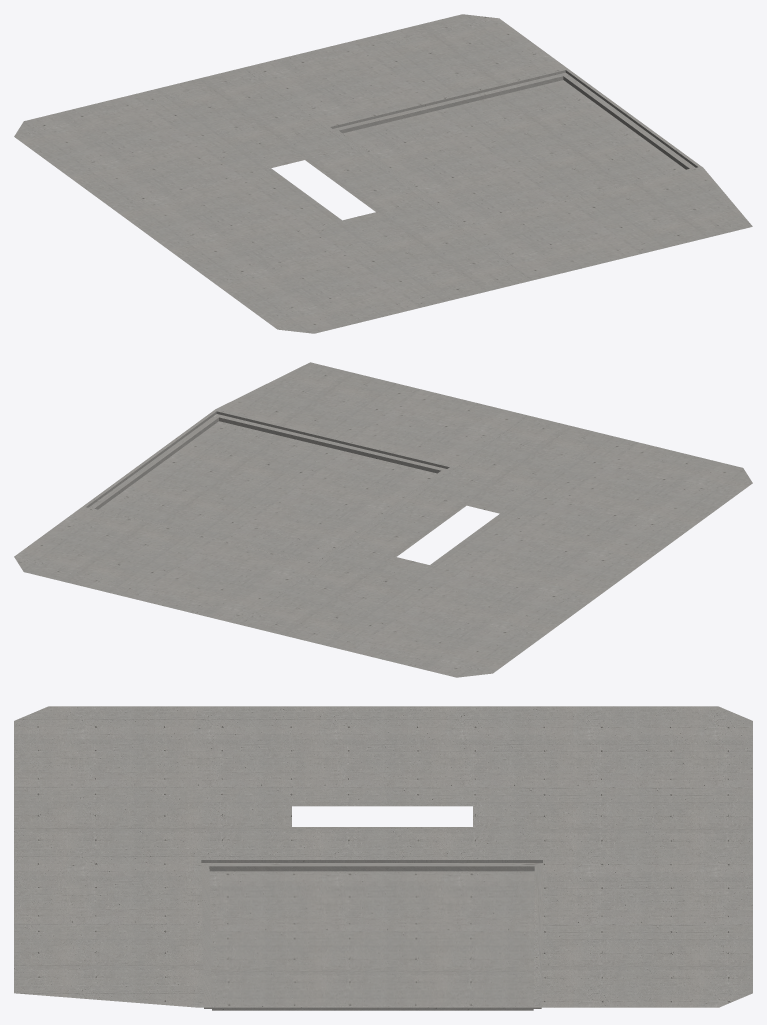
Rendered from floor.fbx.
3 renders of one model, top to bottom at view 1: azimuth 30°, elevation 25°; view 2: azimuth 150°, elevation 25°; view 3: azimuth 270°, elevation 25°, orthographic. The views are drawn at different scales.
Visible parts, largest first — view 1: pasted__polySurface89; view 2: pasted__polySurface89; view 3: pasted__polySurface89.
Boxes of the visible parts, box(x1,y1,x2,y2) form: pasted__polySurface89: box(14, 14, 752, 333); pasted__polySurface89: box(14, 362, 752, 677); pasted__polySurface89: box(14, 706, 752, 1010).
Size of the model in its own units: 1728 by 21.5 by 1791.
1 material, 1 textured.
